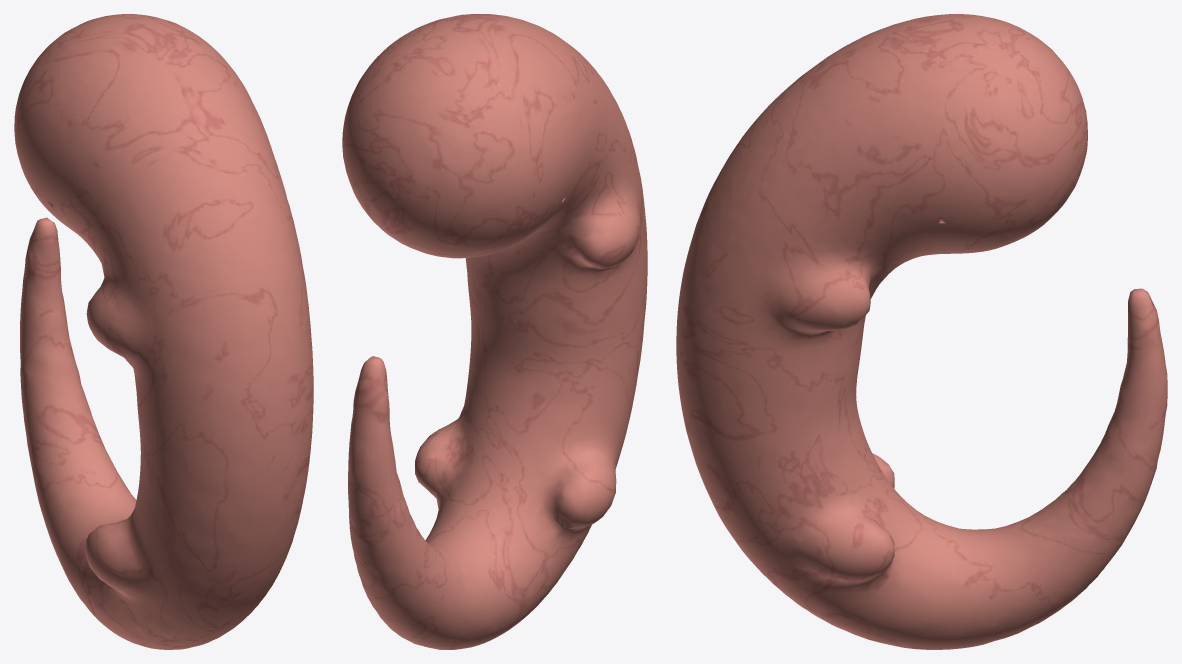
3 renders of one model, left to right at view 1: azimuth 30°, elevation 25°; view 2: azimuth 150°, elevation 25°; view 3: azimuth 270°, elevation 25°, orthographic. The views are drawn at different scales.
Visible parts, largest first — view 1: Baby; view 2: Baby; view 3: Baby.
Part boxes in pixels (x1=…): Baby: x1=14, y1=14, x2=313, y2=649; Baby: x1=342, y1=14, x2=647, y2=649; Baby: x1=676, y1=14, x2=1167, y2=649.
Size of the model in its own units: 0.00201 by 0.0057 by 0.0041.
1 material, 1 textured.
